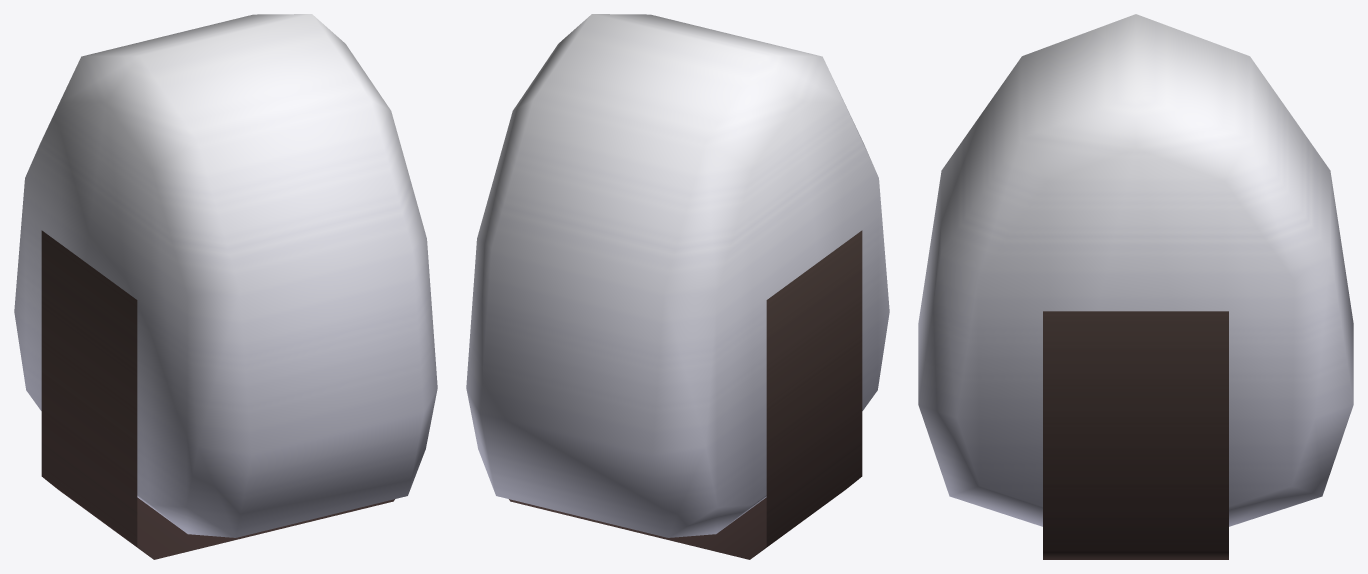
Rendered from cc0-rice-ball-lod0.glb.
3 renders of one model, left to right at view 1: azimuth 30°, elevation 25°; view 2: azimuth 150°, elevation 25°; view 3: azimuth 270°, elevation 25°, orthographic. The views are drawn at different scales.
Parts seen in each view (by area): view 1: part_0; view 2: part_0; view 3: part_0.
Part boxes in pixels (bbox=[...]): part_0: bbox=[14, 14, 437, 559]; part_0: bbox=[466, 14, 889, 559]; part_0: bbox=[918, 14, 1353, 559].
Bounding box in the file's own units: 0.0812 × 0.1309 × 0.1152.
1 material, 1 textured.
